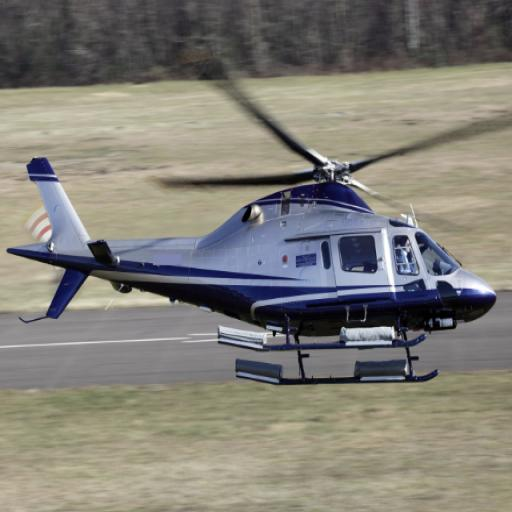helicopter: (8, 70, 504, 398)
